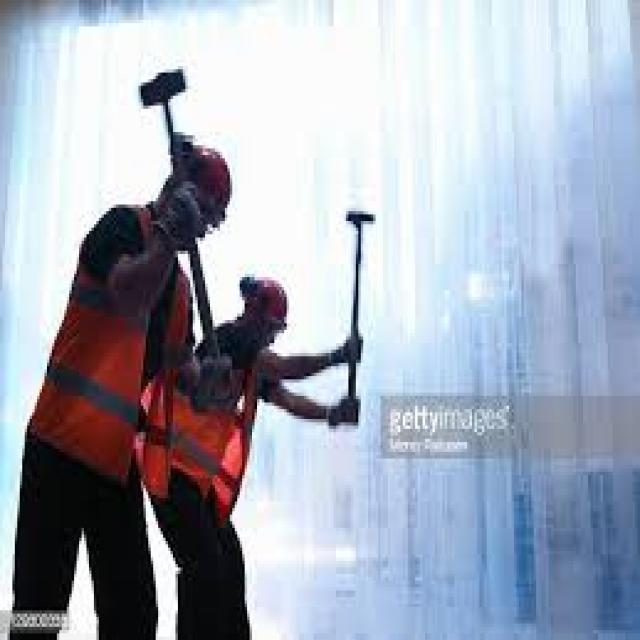hammer: (136, 59, 222, 370), (328, 188, 380, 436)
